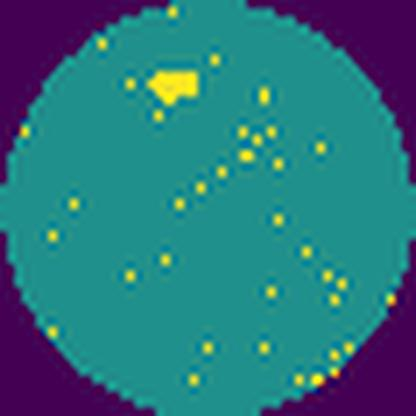Loc: (142, 66, 203, 110)
